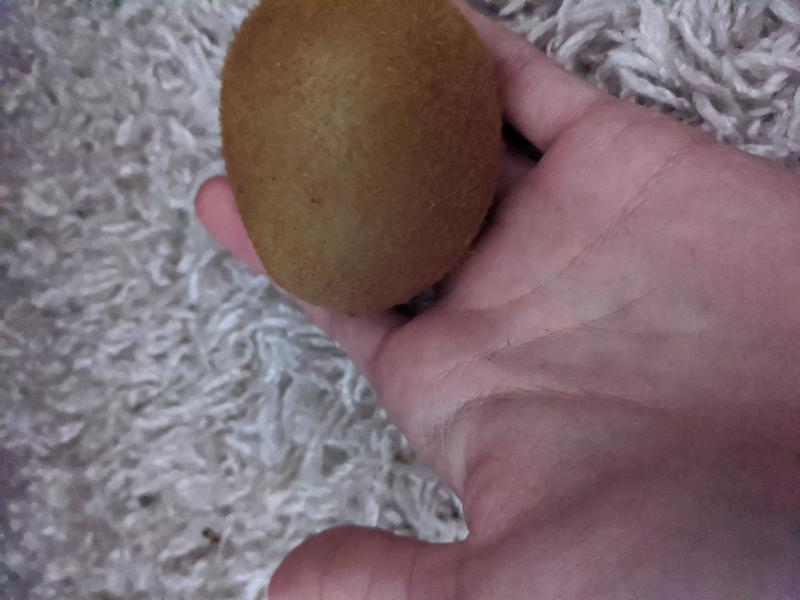kiwi: (219, 1, 502, 313)
